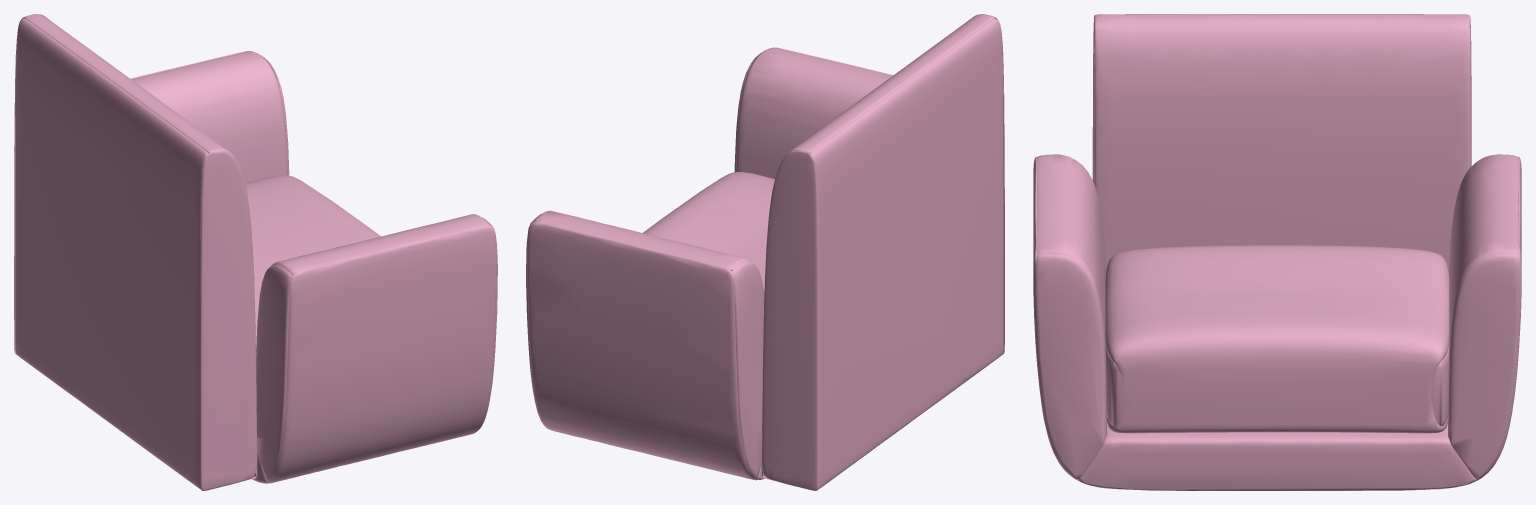
The model's file is poltrona low.fbx.
3 renders of one model, left to right at view 1: azimuth 30°, elevation 25°; view 2: azimuth 150°, elevation 25°; view 3: azimuth 270°, elevation 25°, orthographic.
Parts seen in each view (by area): view 1: dietro, base, seduta; view 2: dietro, base, seduta; view 3: dietro, seduta, base.
Boxes of the visible parts, x1=… form: dietro: x1=14, y1=14, x2=257, y2=490; base: x1=130, y1=51, x2=497, y2=483; seduta: x1=245, y1=175, x2=380, y2=354; dietro: x1=761, y1=14, x2=1004, y2=490; base: x1=526, y1=47, x2=892, y2=480; seduta: x1=643, y1=172, x2=774, y2=292; dietro: x1=1092, y1=14, x2=1471, y2=272; seduta: x1=1105, y1=245, x2=1449, y2=433; base: x1=1033, y1=154, x2=1521, y2=490.
Bounding box in the file's own units: 254 × 312 × 395.
